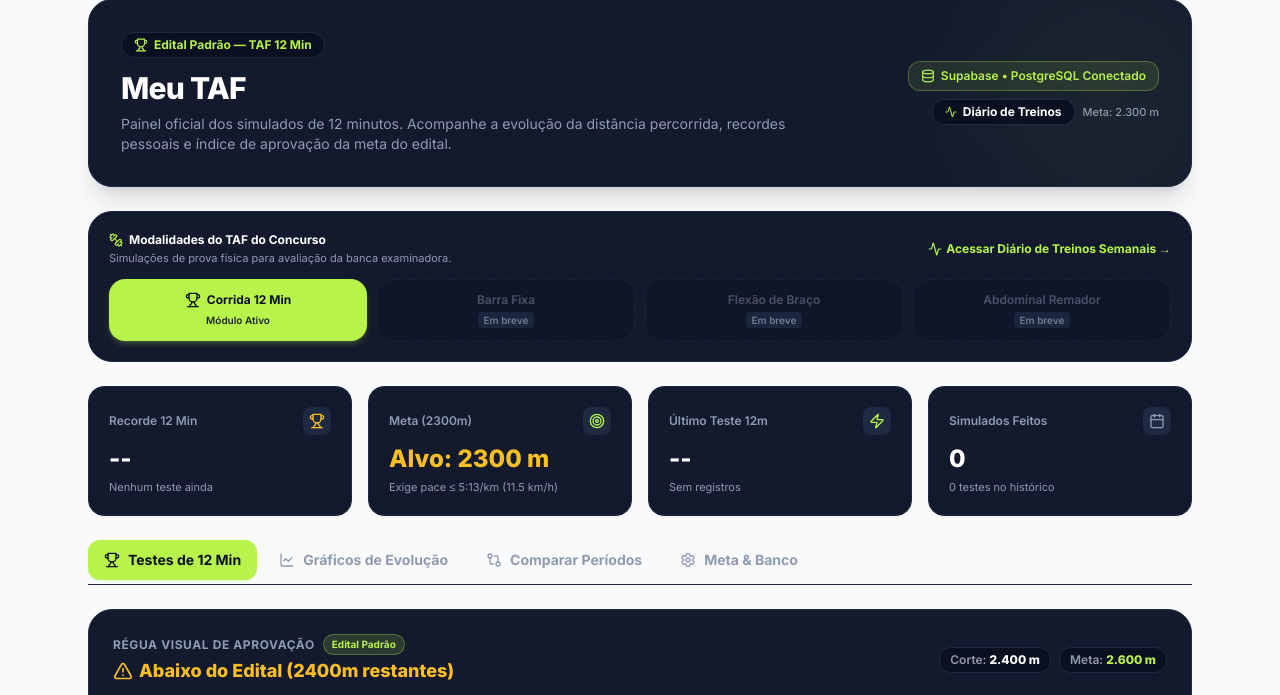
MeuTafPage - Fase F (Comparador de Períodos & Configuração de Meta / Backup) › Configuração de Meta & Central de Backup › navega para a aba Meta & Banco e exibe os valores padrões e ritmos de aprovação
Click the button "Meta & Banco" at (739, 560), box left=664, top=540, right=814, bottom=580
(page scrolled)
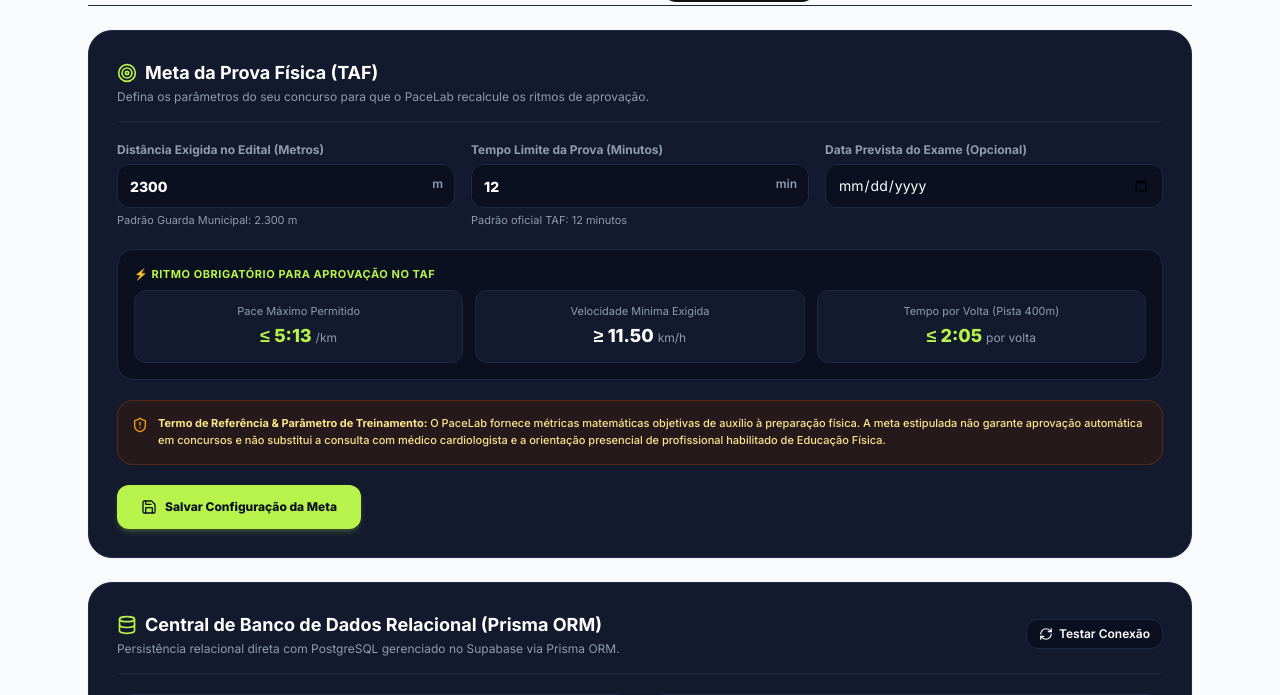
expect the heading "Meta da Prova Física (TAF)" is shown: met, box left=117, top=62, right=378, bottom=83
expect the text "≤ 5:13 /km" is shown: met, box left=260, top=324, right=337, bottom=346
expect the text "≥ 11.50 km/h" is shown: met, box left=594, top=324, right=686, bottom=346
